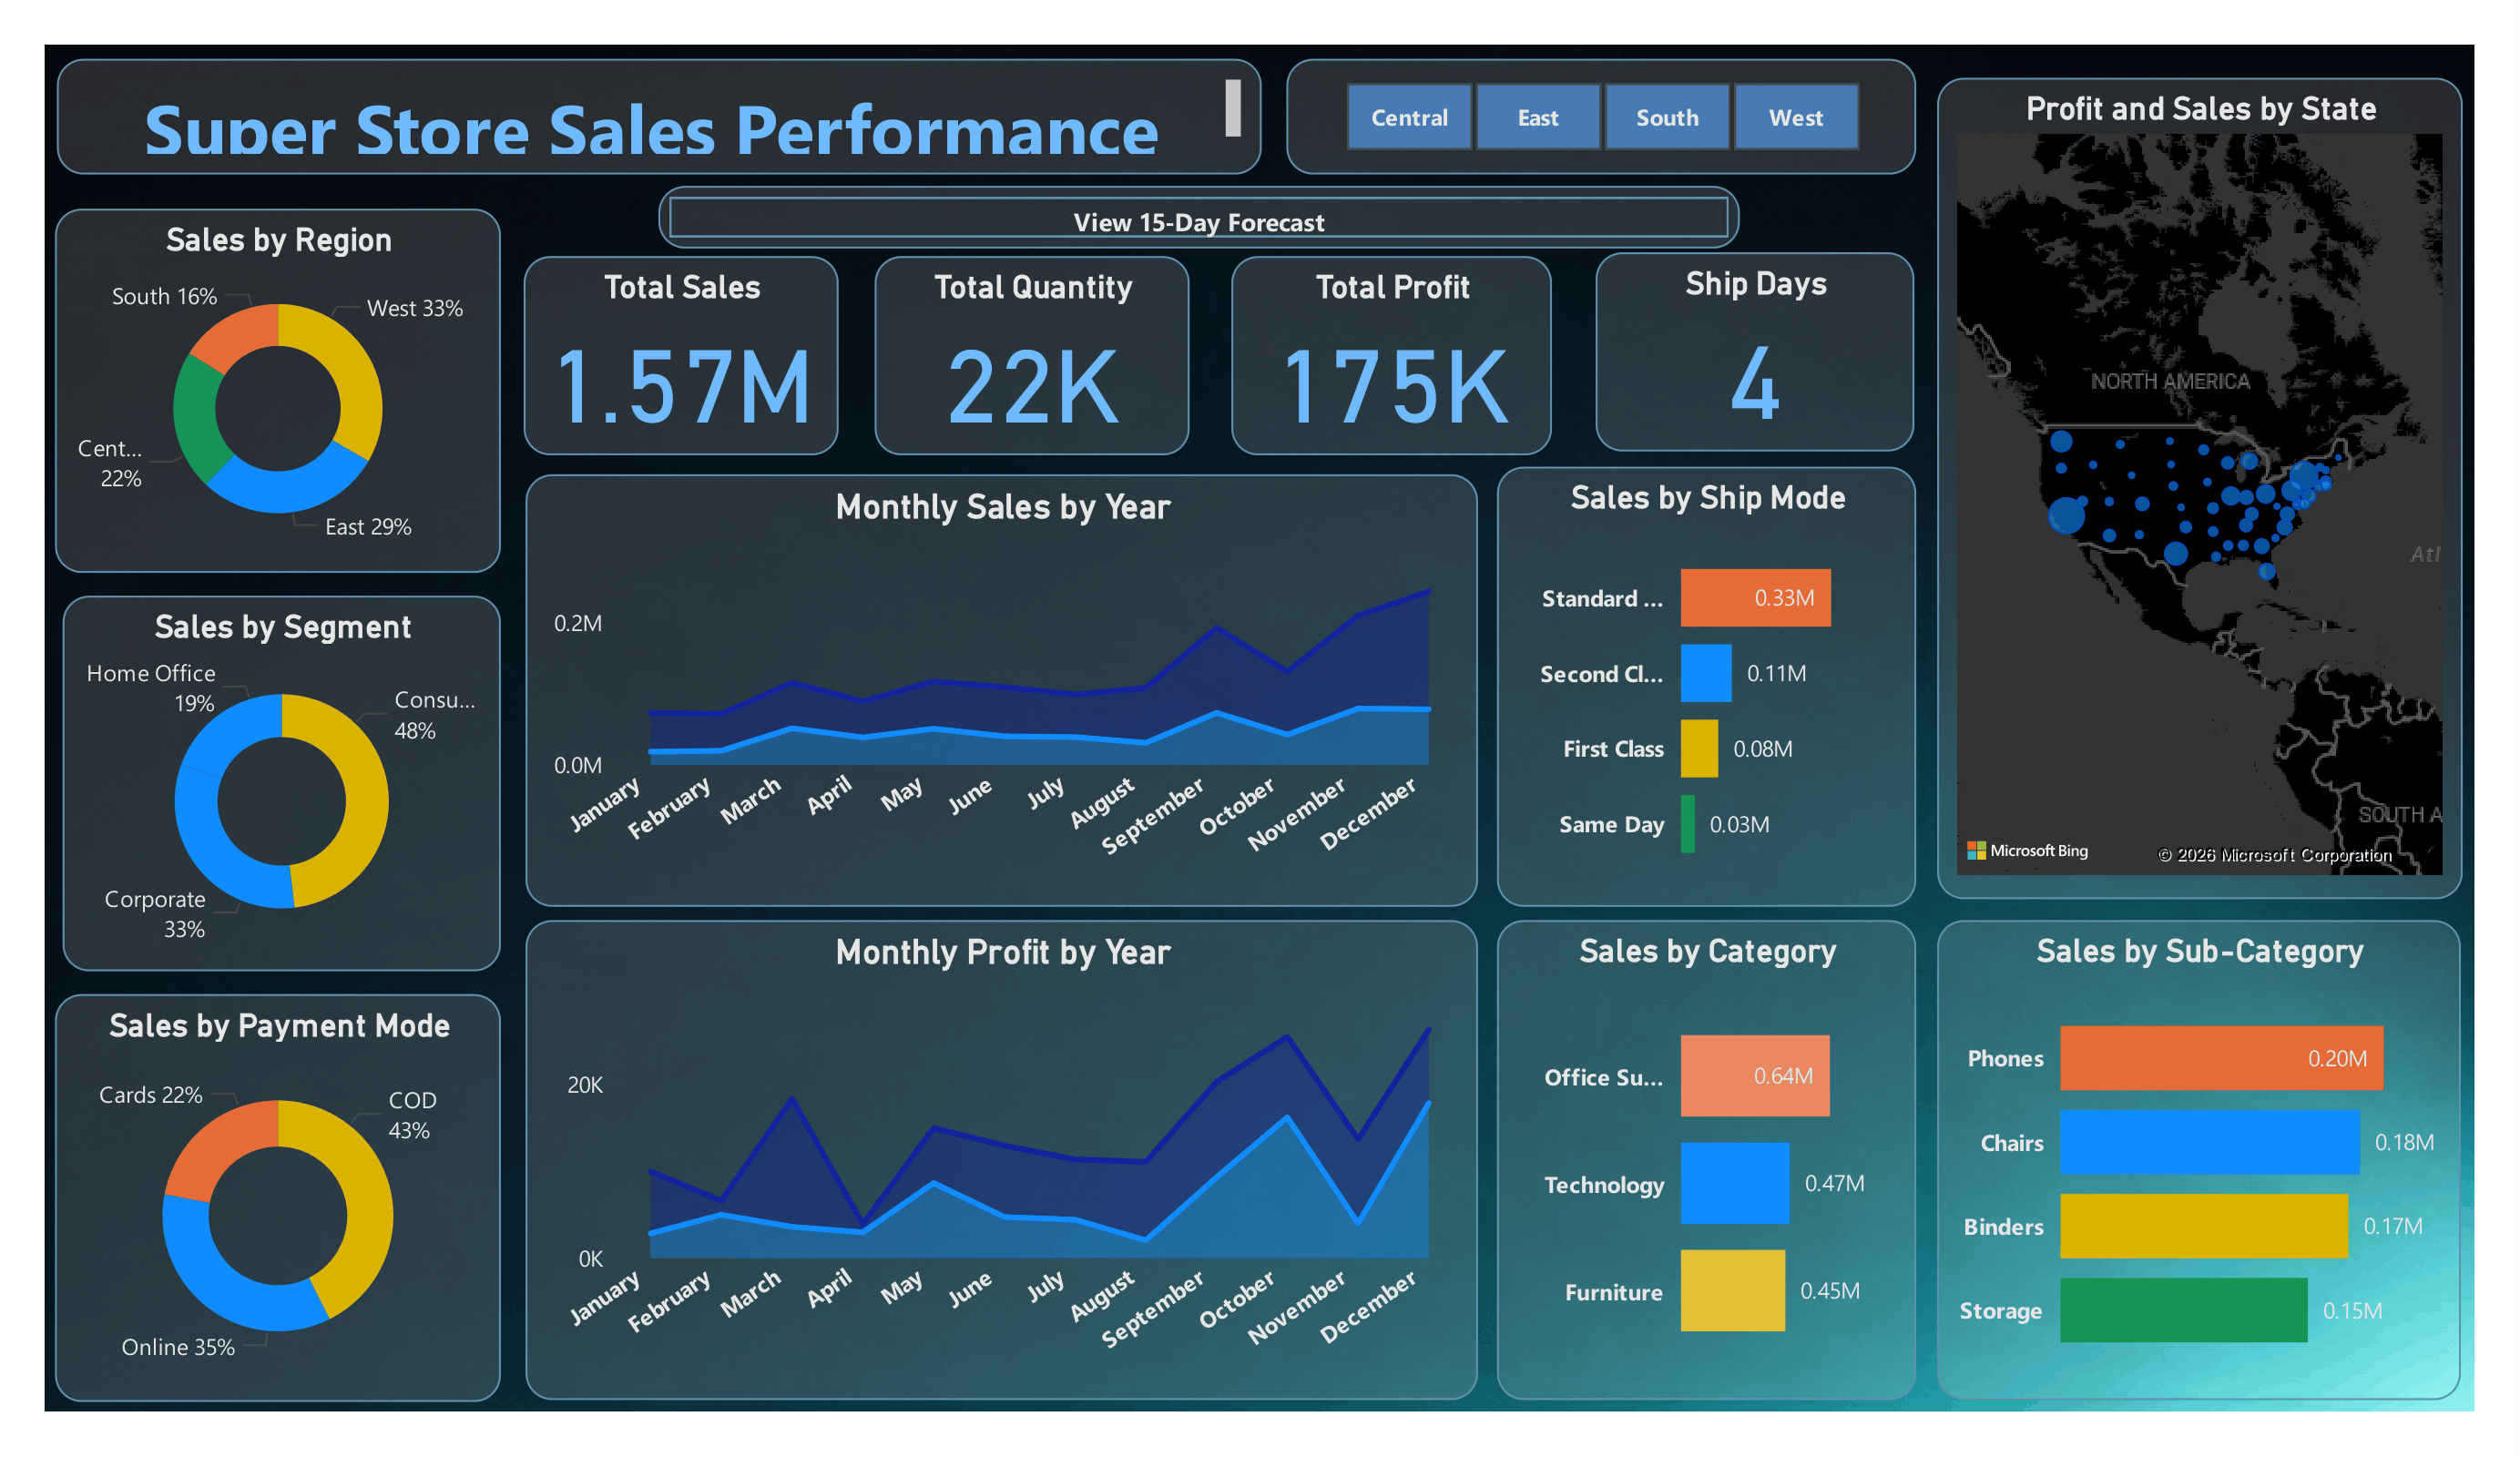

What the dashboard file says about the page in this screenshot:
{"tool":"powerbi","page":{"name":"Sales Performance","canvas":[1280,720],"ordinal":0},"visuals":[{"type":"clusteredBarChart","title":" Sales by Category","fields":{"Category":["SuperStore_Sales_Dataset.Category"],"Y":["Sum(SuperStore_Sales_Dataset.Sales)"]},"box":[765.3,461,220.7,252.7],"z":1000},{"type":"clusteredBarChart","title":" Sales by Ship Mode","fields":{"Category":["SuperStore_Sales_Dataset.Ship Mode"],"Y":["Sum(SuperStore_Sales_Dataset.Sales)"]},"box":[765.3,222.5,220.7,231.4],"z":2000},{"type":"stackedAreaChart","title":"Monthly Profit by  Year","fields":{"Y":["Sum(SuperStore_Sales_Dataset.Profit)"],"Category":["SuperStore_Sales_Dataset.Order Date.Variation.Date Hierarchy.Month"],"Series":["SuperStore_Sales_Dataset.Order Date.Variation.Date Hierarchy.Year"]},"box":[252.7,461,501.9,252.7],"z":3000},{"type":"donutChart","title":"Sales by Segment","fields":{"Category":["SuperStore_Sales_Dataset.Segment"],"Y":["Sum(SuperStore_Sales_Dataset.Sales)"]},"box":[8.9,290.1,231.4,197.6],"z":4000},{"type":"donutChart","title":"Sales by Payment Mode","fields":{"Category":["SuperStore_Sales_Dataset.Payment Mode"],"Y":["Sum(SuperStore_Sales_Dataset.Sales)"]},"box":[5.3,500.1,234.9,215.4],"z":5000},{"type":"slicer","fields":{"Values":["SuperStore_Sales_Dataset.Region"]},"box":[653.9,7.2,331.8,60.3],"z":6000},{"type":"card","title":"Total Sales","fields":{"Values":["SuperStore_Sales_Dataset.Total Sales"]},"box":[252.5,111,165.9,105.3],"z":7000},{"type":"card","title":"Total Quantity","fields":{"Values":["SuperStore_Sales_Dataset.Total Quantity"]},"box":[437.2,111,165.9,105.3],"z":8000},{"type":"card","title":"Ship Days","fields":{"Values":["Avg(SuperStore_Sales_Dataset.AvgDilevery)"]},"box":[816.6,109,168.8,105.3],"z":9000},{"type":"card","title":"Total Profit","fields":{"Values":["SuperStore_Sales_Dataset.Total Profit"]},"box":[624.7,111,168.8,105.3],"z":10000},{"type":"clusteredBarChart","title":" Sales by Sub-Category","fields":{"Category":["SuperStore_Sales_Dataset.Sub-Category"],"Y":["Sum(SuperStore_Sales_Dataset.Sales)"]},"box":[996.7,461,275.9,252.7],"z":11000},{"type":"donutChart","title":"Sales by Region","fields":{"Category":["SuperStore_Sales_Dataset.Region"],"Y":["Sum(SuperStore_Sales_Dataset.Sales)"]},"box":[5.3,86,234.9,192.2],"z":12000},{"type":"map","title":" Profit  and Sales by State","fields":{"Size":["Sum(SuperStore_Sales_Dataset.Sales)"],"Category":["SuperStore_Sales_Dataset.State"]},"box":[996.9,17.3,277,432.8],"z":13000},{"type":"actionButton","box":[323.3,74,569.4,32.6],"z":14000},{"type":"stackedAreaChart","title":"Monthly Sales by Year","fields":{"Y":["Sum(SuperStore_Sales_Dataset.Sales)"],"Category":["SuperStore_Sales_Dataset.Order Date.Variation.Date Hierarchy.Month"],"Series":["SuperStore_Sales_Dataset.Order Date.Variation.Date Hierarchy.Year"]},"box":[253.3,226,501.7,228.3],"z":15000},{"type":"textbox","box":[5.8,7.2,634.8,60.6],"z":18500}]}

Visuals, with their boxes on the page's 1280x720 design canvas (x1, y1, x2, y2). These are canvas units, not pixel positions in the 2520x1457 screenshot, which may show the page scaled, cropped or inside an application window:
" Sales by Category" clusteredBarChart: detection(765, 461, 986, 714)
" Sales by Ship Mode" clusteredBarChart: detection(765, 222, 986, 454)
"Monthly Profit by  Year" stackedAreaChart: detection(253, 461, 755, 714)
"Sales by Segment" donutChart: detection(9, 290, 240, 488)
"Sales by Payment Mode" donutChart: detection(5, 500, 240, 716)
slicer - SuperStore_Sales_Dataset.Region: detection(654, 7, 986, 68)
"Total Sales" card: detection(252, 111, 418, 216)
"Total Quantity" card: detection(437, 111, 603, 216)
"Ship Days" card: detection(817, 109, 985, 214)
"Total Profit" card: detection(625, 111, 794, 216)
" Sales by Sub-Category" clusteredBarChart: detection(997, 461, 1273, 714)
"Sales by Region" donutChart: detection(5, 86, 240, 278)
" Profit  and Sales by State" map: detection(997, 17, 1274, 450)
actionButton: detection(323, 74, 893, 107)
"Monthly Sales by Year" stackedAreaChart: detection(253, 226, 755, 454)
textbox: detection(6, 7, 641, 68)
